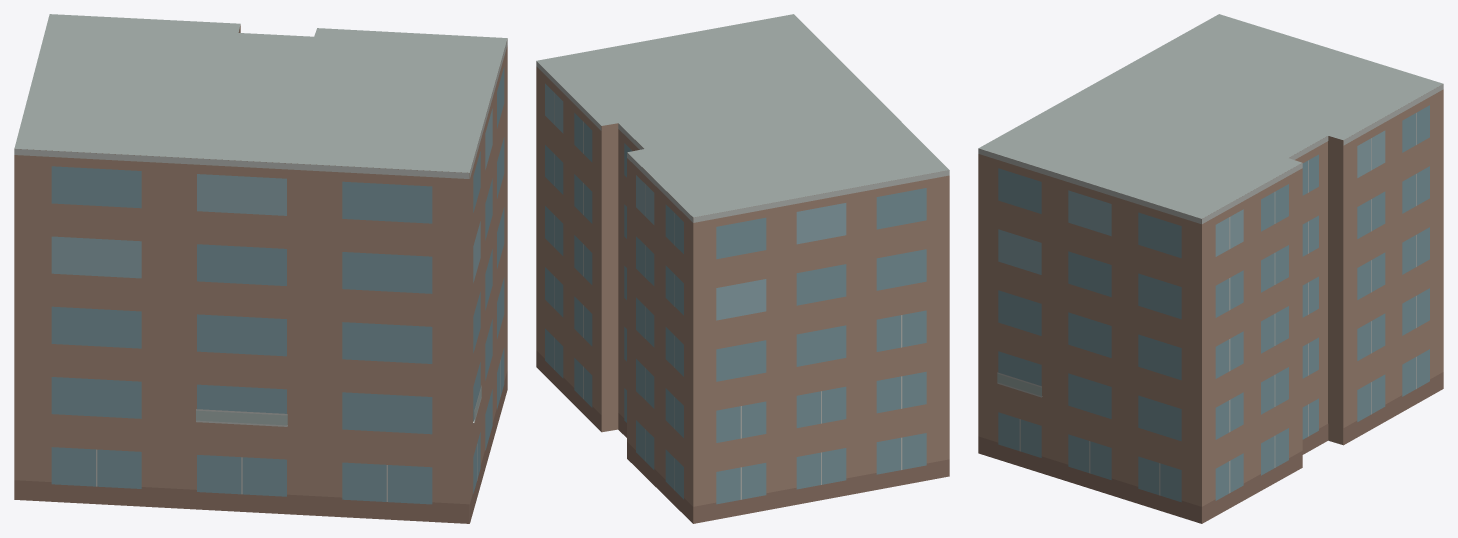
Rendered from survey-upis-32657188.glb.
3 views of the same model, side by side, from view 1: azimuth 30°, elevation 25°; view 2: azimuth 150°, elevation 25°; view 3: azimuth 270°, elevation 25° (orthographic). The views are drawn at different scales.
Visible parts, largest first — view 1: survey-upis-32657188.tmp; view 2: survey-upis-32657188.tmp; view 3: survey-upis-32657188.tmp.
Boxes of the visible parts, x1,y1,x2,y2 form: survey-upis-32657188.tmp: [14, 14, 507, 523]; survey-upis-32657188.tmp: [536, 14, 949, 523]; survey-upis-32657188.tmp: [978, 14, 1443, 523].
Size of the model in its own units: 19.75 by 13.7 by 18.95.
